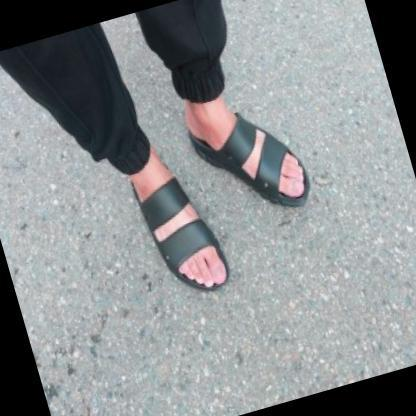no_safety-shoe: (96, 139, 248, 364), (164, 65, 341, 238)
